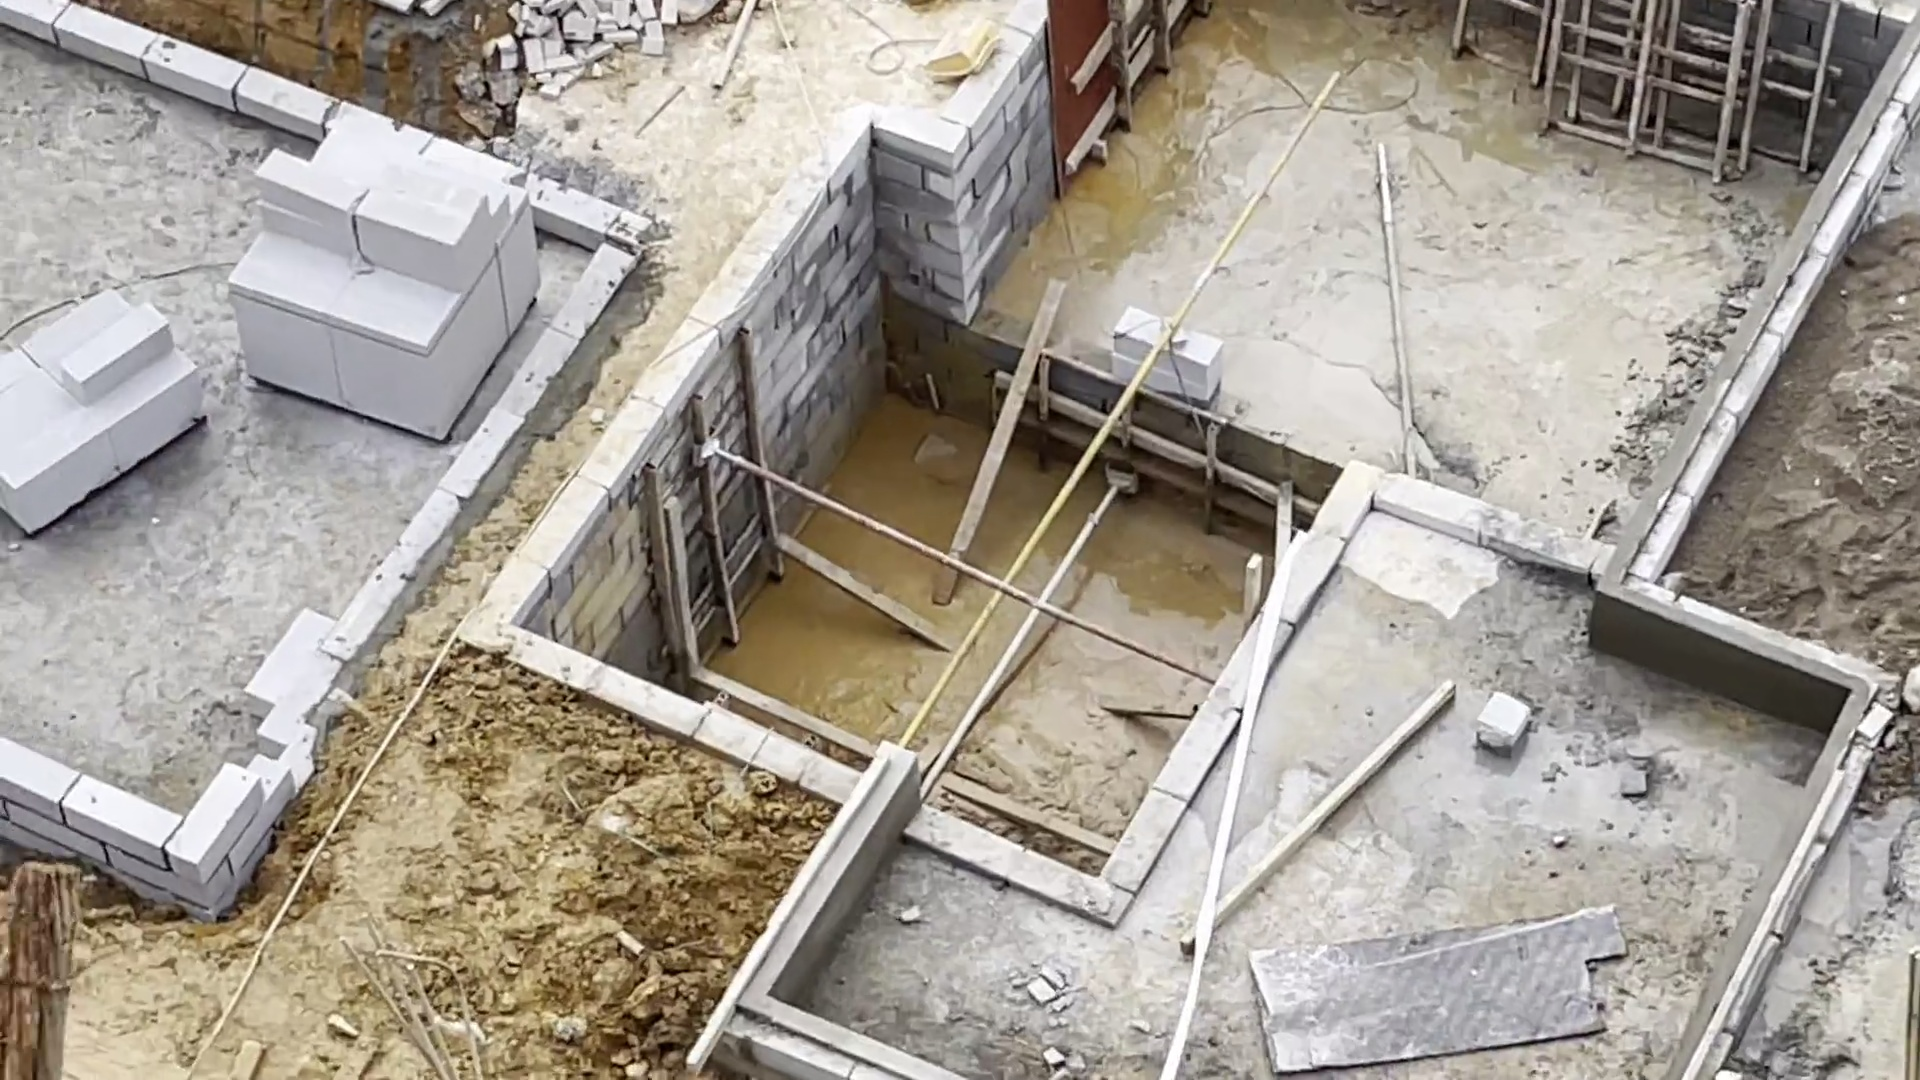brick: (228, 113, 545, 443), (1, 290, 200, 537)
